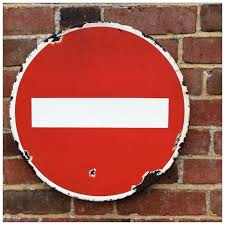No_entry: (9, 21, 190, 202)
